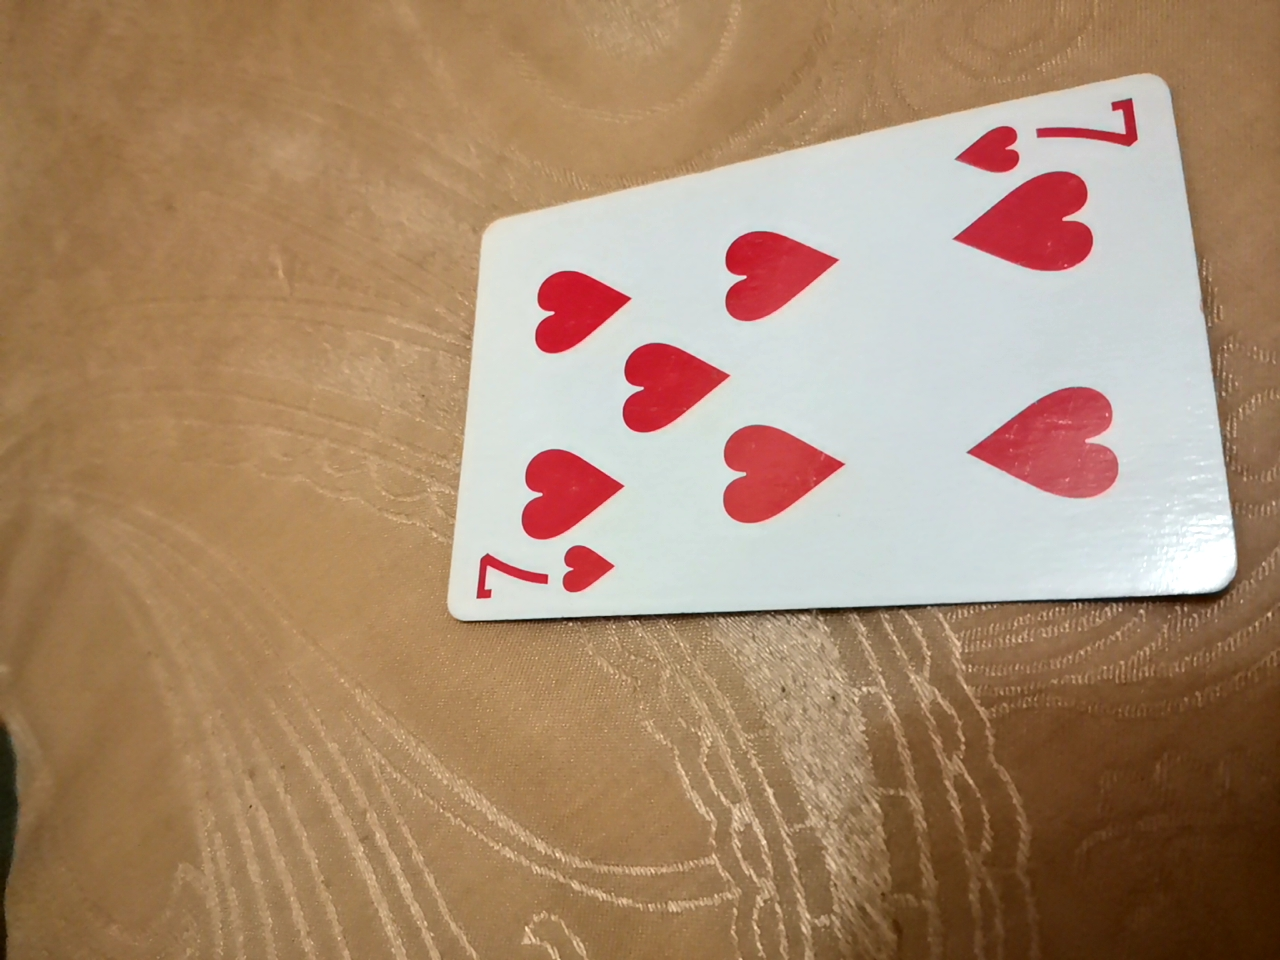hx 7: (438, 107, 1215, 641)
